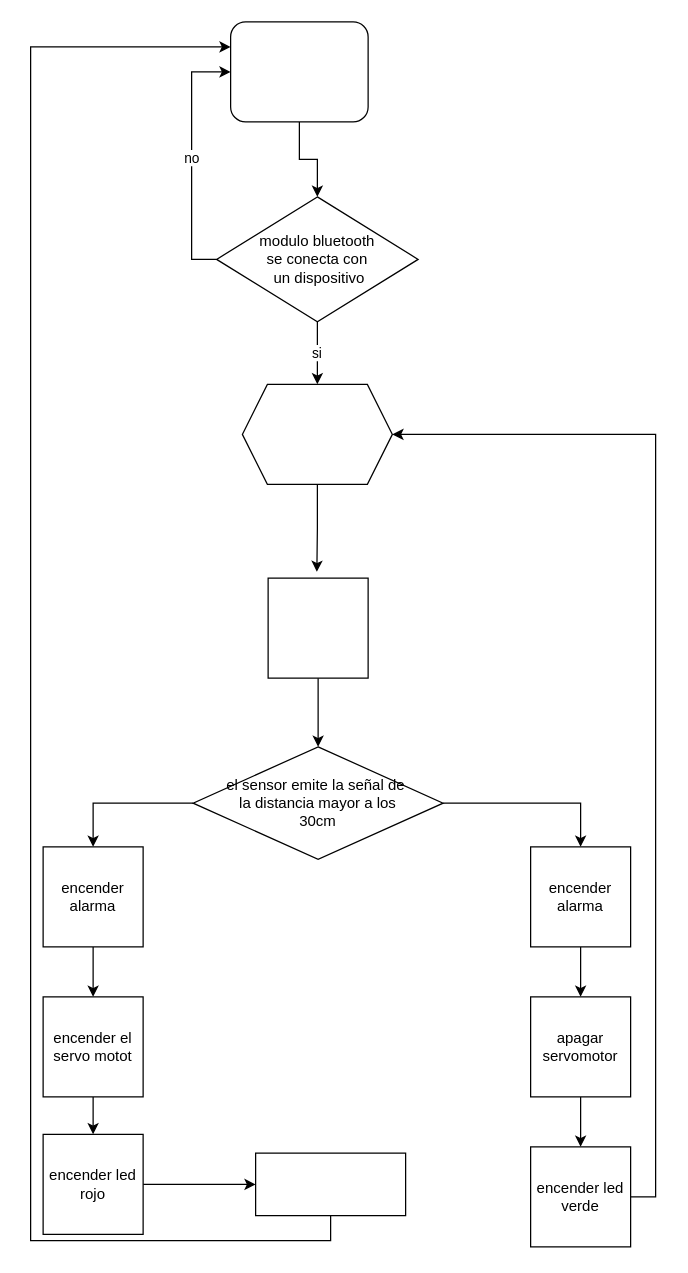
This 688x1273 diagram has some shape labels left out. The centre of each missing label's shape, as x and y in pixels:
abrir puerta: (330,1184)
Inicio: (298,71)
mi microcontrolador se prepara para recibir datos: (316,433)
recepción de datos: (317,627)
